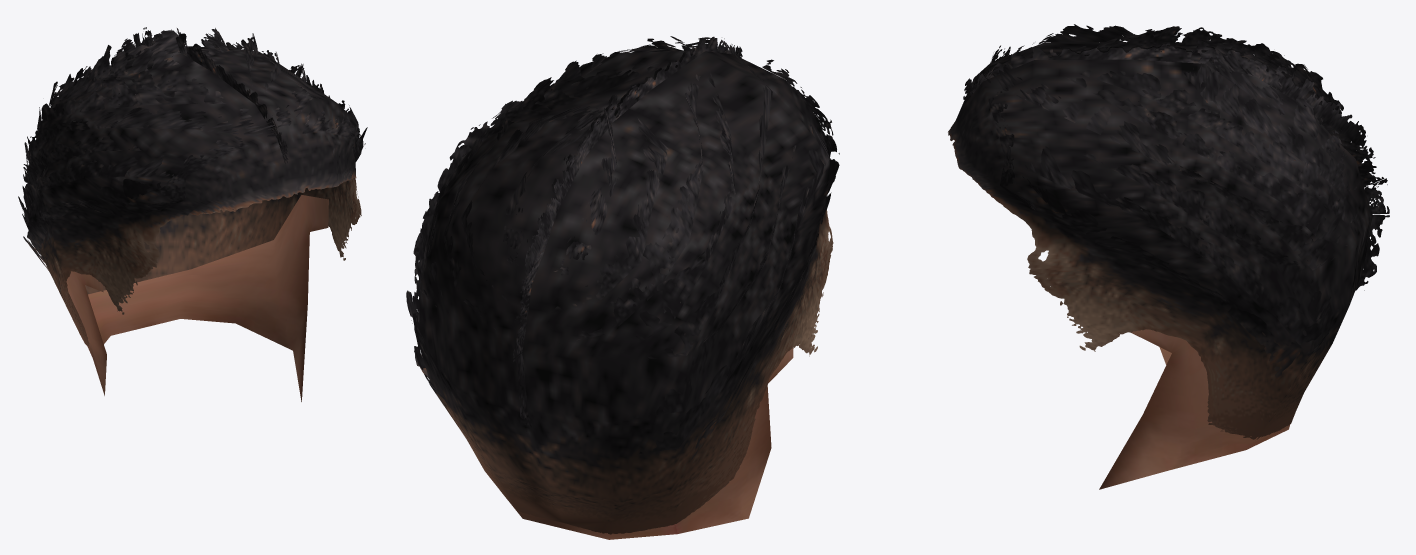
Rendered from deu-musiala.glb.
The picture shows the model from 3 angles, left to right: view 1: azimuth 30°, elevation 25°; view 2: azimuth 150°, elevation 25°; view 3: azimuth 270°, elevation 25°; orthographic projection. The views are drawn at different scales.
Visible parts, largest first — view 1: hair; view 2: hair; view 3: hair.
Part boxes in pixels (x1,y1,x2,y2): hair: [18, 27, 367, 401]; hair: [406, 36, 839, 539]; hair: [948, 24, 1389, 489].
Bounding box in the file's own units: 0.1813 × 0.2482 × 0.2491.
Materials: 2 (2 with a texture image).
